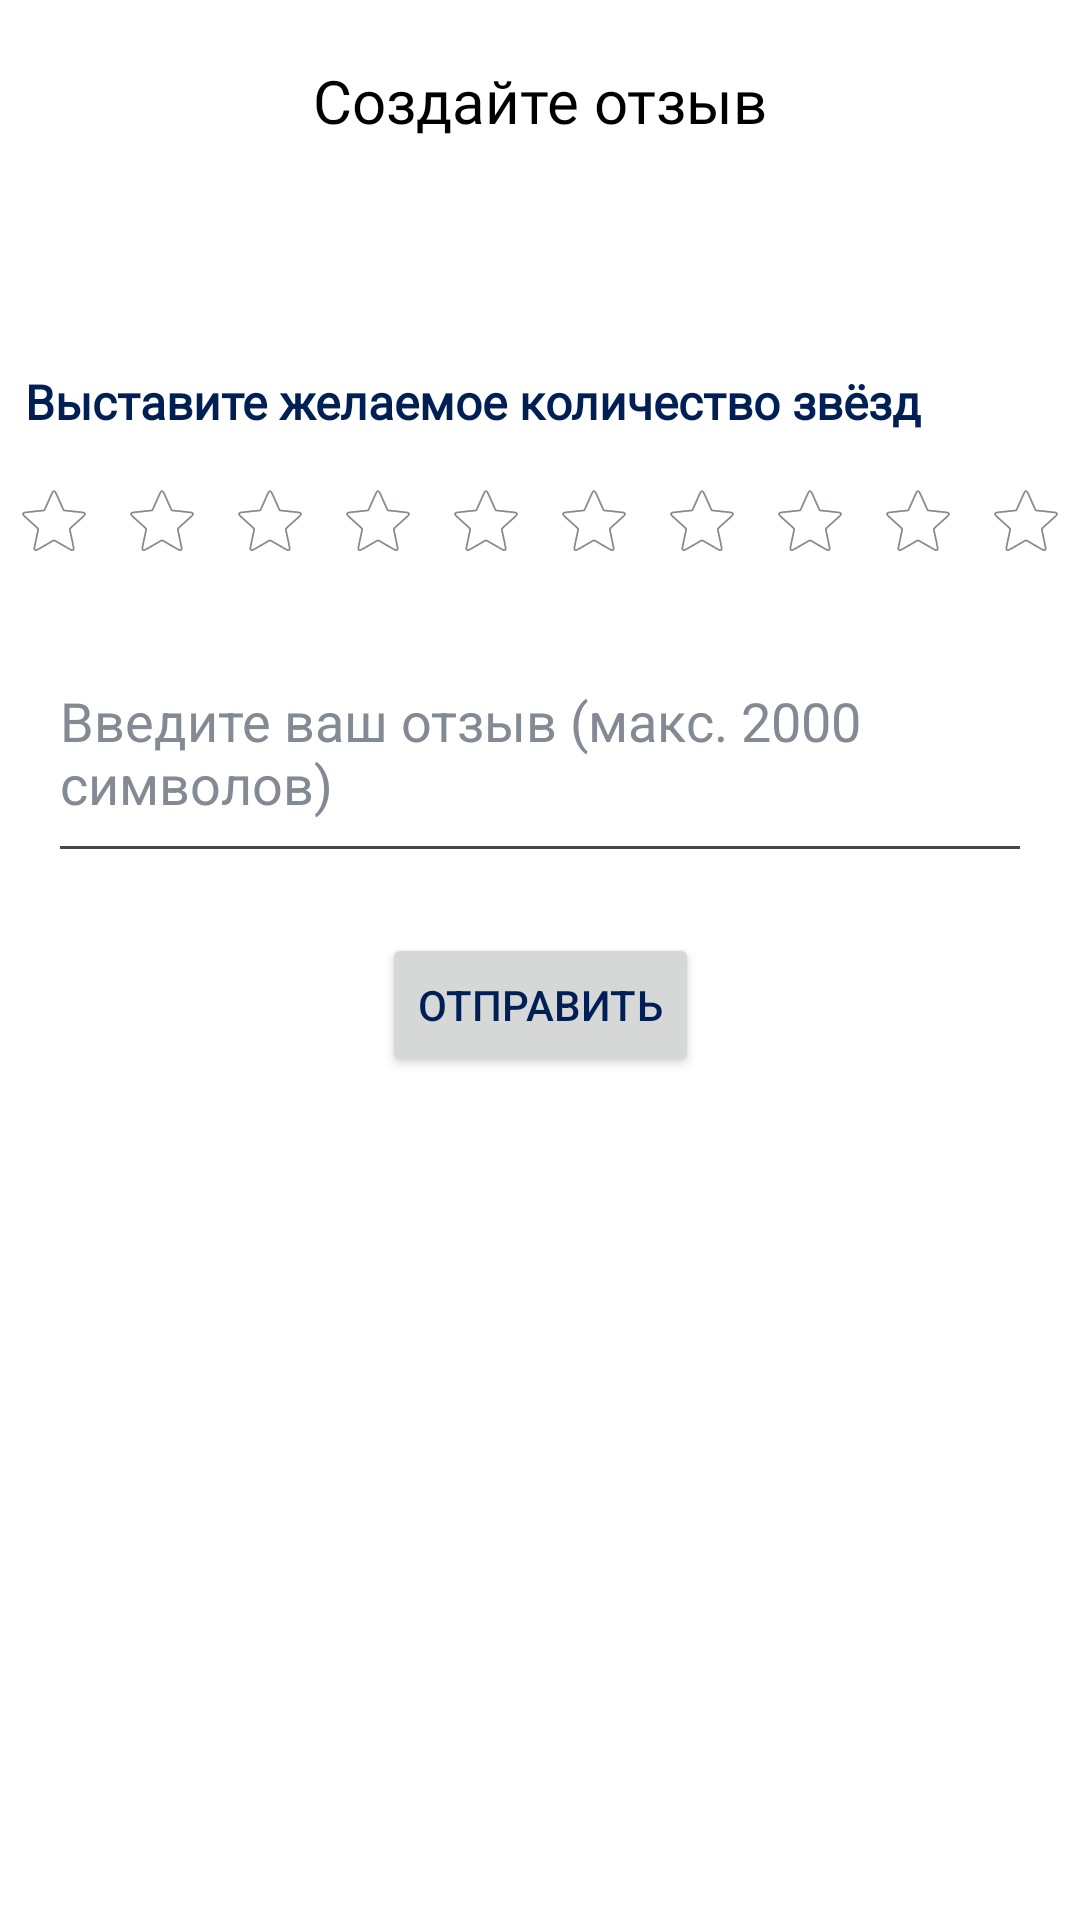

Screen size 1080px×1920px. Icon name, then its center in pixels as (x,y):
Star 1: (54,520)
Star 2: (162,520)
Star 3: (270,520)
Star 4: (378,520)
Star 5: (486,520)
